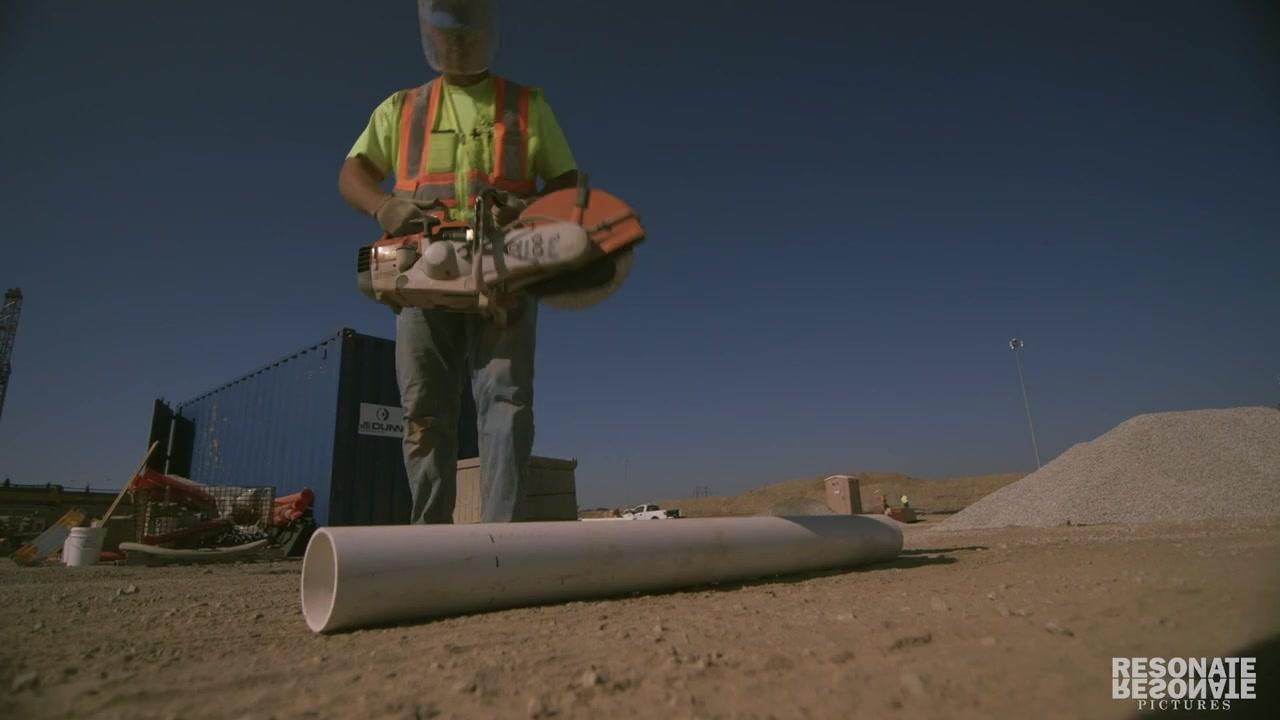vest: (345, 77, 578, 231)
